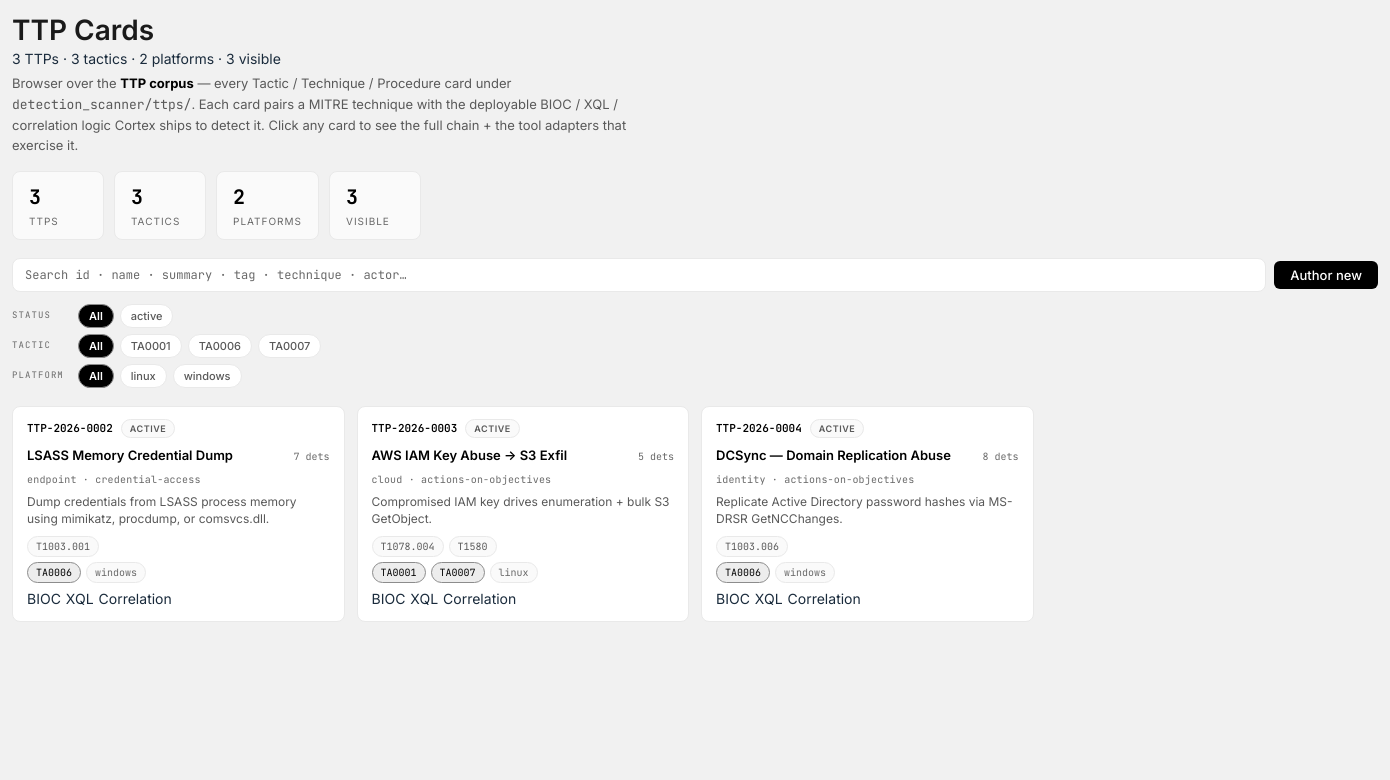
<TtpBrowserView /> › free-text search narrows the grid by name
The image size is (1390, 780).
Expected: the button with test id "ttp-card-TTP-2026-0002" is shown, top-left (12, 406), bottom-right (344, 622)
Type "dcsync" into the search field with test id "ttp-search" at coordinates (639, 275), box top-left (12, 258), bottom-right (1266, 292)
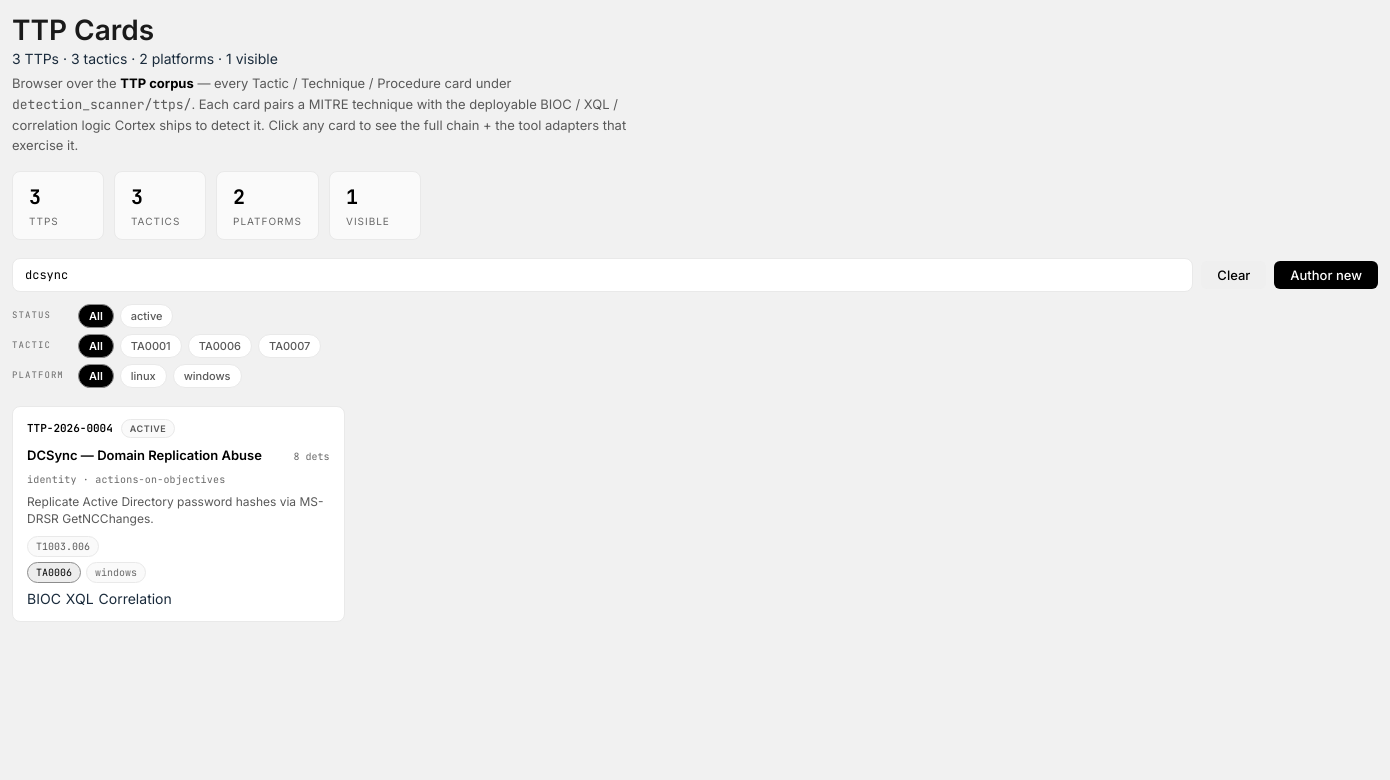
Expected: the button with test id "ttp-card-TTP-2026-0004" is shown, top-left (12, 406), bottom-right (344, 622)
Expected: the button with test id "ttp-card-TTP-2026-0002" is gone
Expected: the button with test id "ttp-card-TTP-2026-0003" is gone
